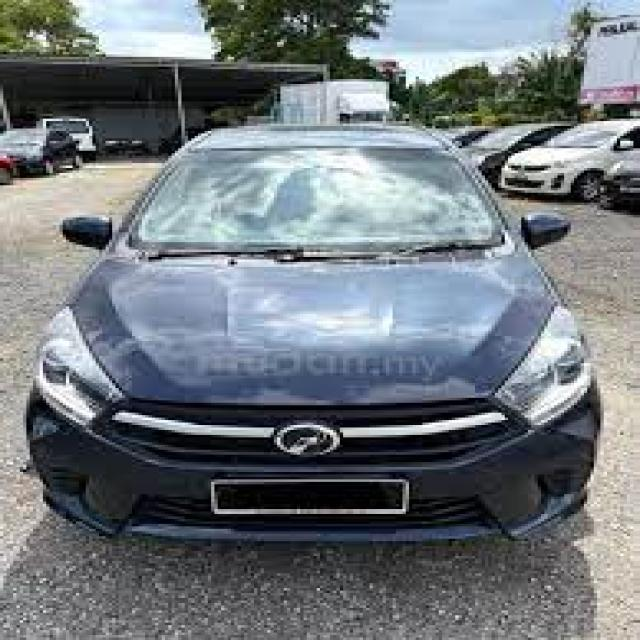PeroduaAxia: (20, 119, 604, 546)
